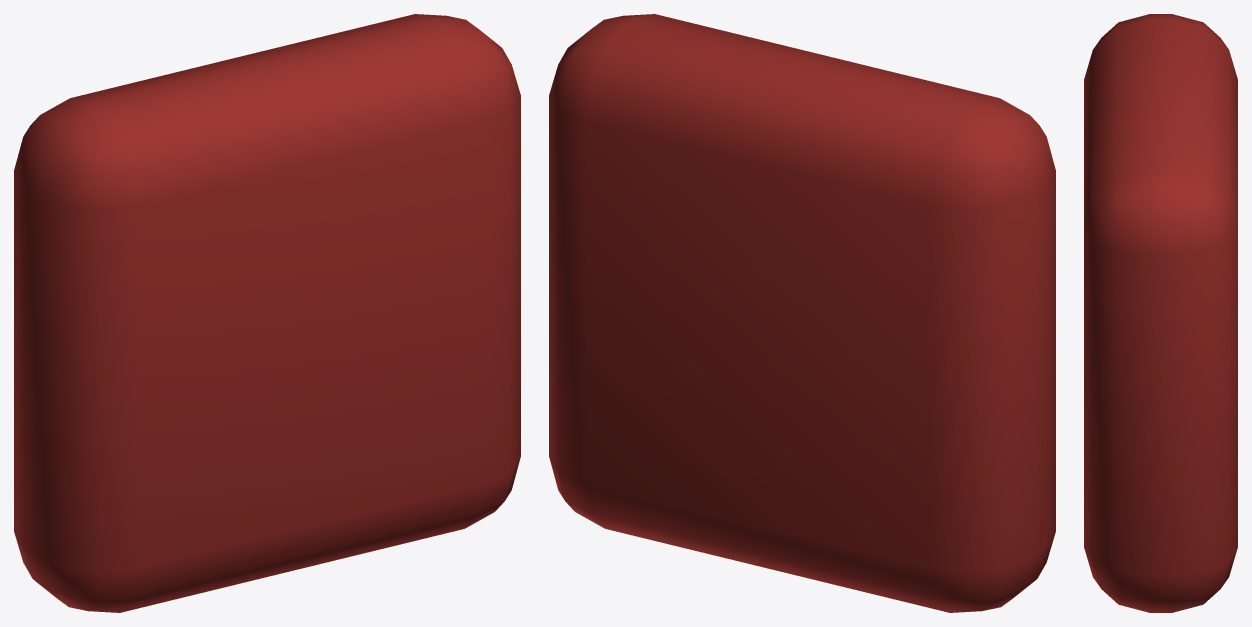
The model's file is Cushion_Square.glb.
3 renders of one model, left to right at view 1: azimuth 30°, elevation 25°; view 2: azimuth 150°, elevation 25°; view 3: azimuth 270°, elevation 25°, orthographic. The views are drawn at different scales.
Visible parts, largest first — view 1: Cushion_Square; view 2: Cushion_Square; view 3: Cushion_Square.
Boxes of the visible parts, bbox=[...] form: Cushion_Square: bbox=[14, 14, 520, 612]; Cushion_Square: bbox=[549, 14, 1055, 612]; Cushion_Square: bbox=[1084, 14, 1237, 612].
Size of the model in its own units: 0.44 by 0.44 by 0.14.
